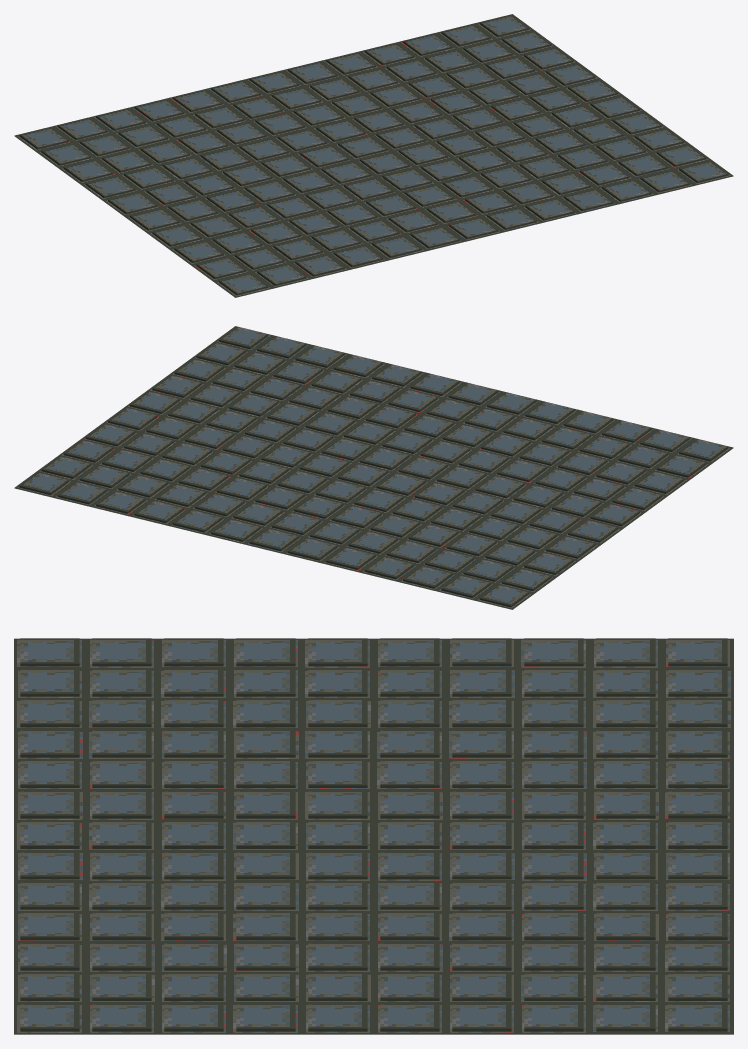
File: Floor.obj
3 renders of one model, top to bottom at view 1: azimuth 30°, elevation 25°; view 2: azimuth 150°, elevation 25°; view 3: azimuth 270°, elevation 25°, orthographic. The views are drawn at different scales.
Parts seen in each view (by area): view 1: Normal_Plane.001, Plane; view 2: Normal_Plane.001, Plane; view 3: Normal_Plane.001, Plane.
Part boxes in pixels (x1,y1,x2,y2): Normal_Plane.001: [17, 14, 732, 297]; Plane: [14, 14, 733, 297]; Normal_Plane.001: [15, 326, 730, 609]; Plane: [14, 326, 733, 609]; Normal_Plane.001: [14, 638, 733, 1034]; Plane: [14, 638, 733, 1034].
Size of the model in its own units: 26 by 0.0972 by 20.
